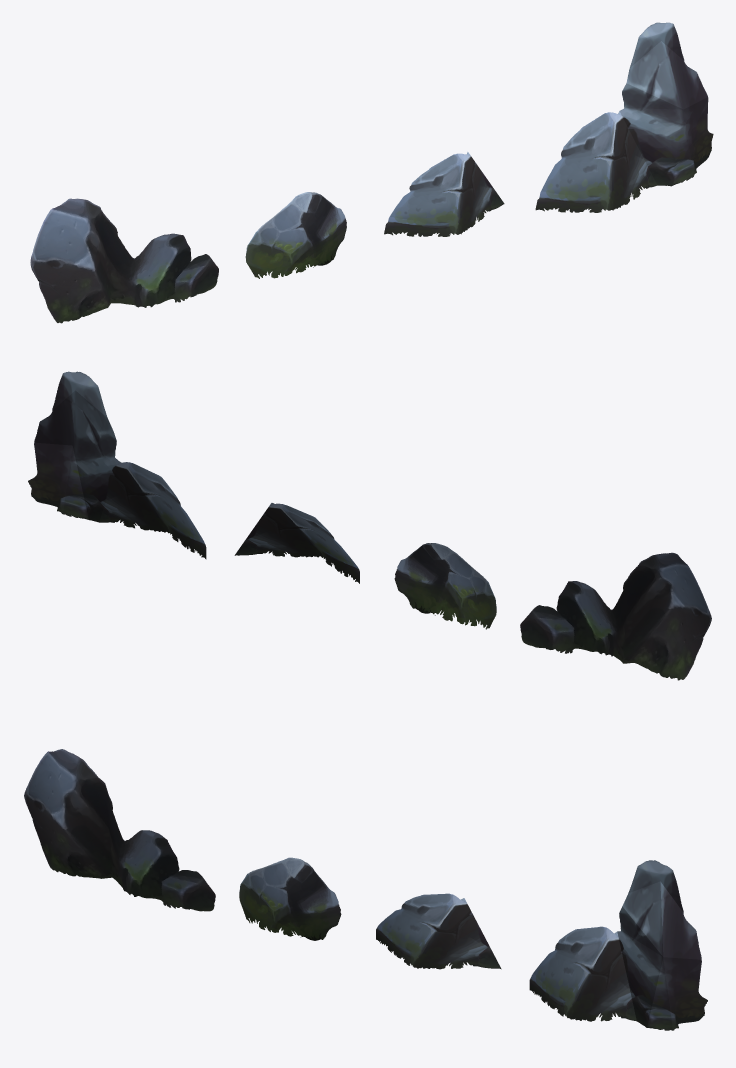
Rendered from Rocks.FBX.
3 views of the same model, one above another, from view 1: azimuth 30°, elevation 25°; view 2: azimuth 150°, elevation 25°; view 3: azimuth 330°, elevation 25° (orthographic).
Parts seen in each view (by area): view 1: Rock 4, Rock 1, Rock 3, Rock 2; view 2: Rock 4, Rock 1, Rock 2, Rock 3; view 3: Rock 4, Rock 1, Rock 3, Rock 2.
Boxes of the visible parts, bbox=[...] form: Rock 4: bbox=[535, 22, 713, 212]; Rock 1: bbox=[30, 198, 218, 323]; Rock 3: bbox=[384, 152, 504, 236]; Rock 2: bbox=[245, 192, 346, 278]; Rock 4: bbox=[28, 371, 206, 559]; Rock 1: bbox=[520, 552, 711, 680]; Rock 2: bbox=[394, 543, 496, 629]; Rock 3: bbox=[234, 503, 359, 583]; Rock 4: bbox=[529, 860, 707, 1030]; Rock 1: bbox=[24, 749, 215, 911]; Rock 3: bbox=[376, 893, 501, 969]; Rock 2: bbox=[239, 857, 341, 940].
Size of the model in its own units: 1103 by 68.39 by 292.
